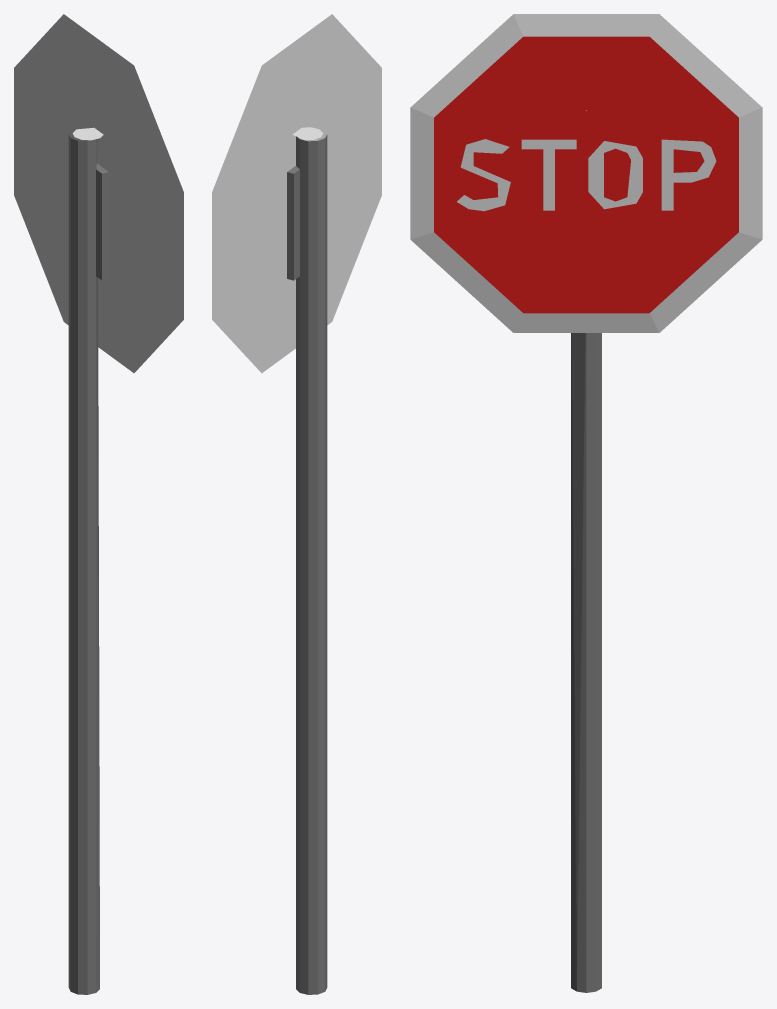
The model's file is stop-sign.glb.
3 views of the same model, side by side, from view 1: azimuth 30°, elevation 25°; view 2: azimuth 150°, elevation 25°; view 3: azimuth 270°, elevation 25° (orthographic). The views are drawn at different scales.
Visible parts, largest first — view 1: Stop_Sign; view 2: Stop_Sign; view 3: Stop_Sign.
Boxes of the visible parts, bbox=[...] form: Stop_Sign: bbox=[14, 14, 183, 994]; Stop_Sign: bbox=[212, 14, 381, 994]; Stop_Sign: bbox=[410, 14, 762, 992].
Bounding box in the file's own units: 8 × 231 × 75.23.
1 material, 1 textured.
